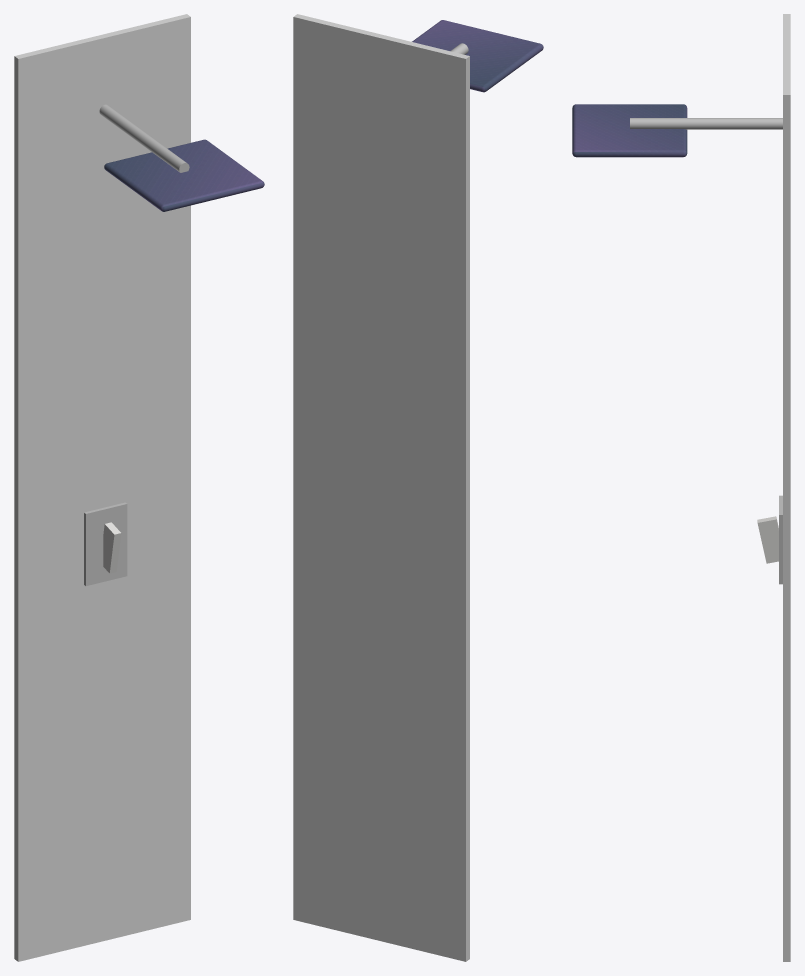
File: state-default.glb
3 views of the same model, side by side, from view 1: azimuth 30°, elevation 25°; view 2: azimuth 150°, elevation 25°; view 3: azimuth 270°, elevation 25° (orthographic). The views are drawn at different scales.
Parts seen in each view (by area): view 1: assetPrim:94e9a636240718-19c7407bbee:shower-wall-strip, assetPrim:94e9a636240718-19c7407bbee:shower-head-plate, assetPrim:94e9a636240718-19c7407bbee:shower-mixer-backplate, assetPrim:94e9a636240718-19c7407bbee:shower-arm-pipe, assetPrim:94e9a636240718-19c7407bbee:shower-mixer-lever; view 2: assetPrim:94e9a636240718-19c7407bbee:shower-wall-strip, assetPrim:94e9a636240718-19c7407bbee:shower-head-plate; view 3: assetPrim:94e9a636240718-19c7407bbee:shower-wall-strip, assetPrim:94e9a636240718-19c7407bbee:shower-head-plate, assetPrim:94e9a636240718-19c7407bbee:shower-arm-pipe, assetPrim:94e9a636240718-19c7407bbee:shower-mixer-lever.
Boxes of the visible parts, box(x1,y1,x2,y2) form: assetPrim:94e9a636240718-19c7407bbee:shower-wall-strip: box(14, 14, 190, 961); assetPrim:94e9a636240718-19c7407bbee:shower-head-plate: box(104, 139, 264, 211); assetPrim:94e9a636240718-19c7407bbee:shower-mixer-backplate: box(84, 502, 127, 585); assetPrim:94e9a636240718-19c7407bbee:shower-arm-pipe: box(99, 104, 189, 172); assetPrim:94e9a636240718-19c7407bbee:shower-mixer-lever: box(103, 522, 121, 573); assetPrim:94e9a636240718-19c7407bbee:shower-wall-strip: box(293, 14, 469, 961); assetPrim:94e9a636240718-19c7407bbee:shower-head-plate: box(412, 20, 543, 92); assetPrim:94e9a636240718-19c7407bbee:shower-wall-strip: box(783, 14, 790, 961); assetPrim:94e9a636240718-19c7407bbee:shower-head-plate: box(572, 104, 687, 157); assetPrim:94e9a636240718-19c7407bbee:shower-arm-pipe: box(630, 118, 782, 129); assetPrim:94e9a636240718-19c7407bbee:shower-mixer-lever: box(757, 516, 778, 563).
Size of the model in its own units: 0.5 by 2.5 by 0.57.
5 materials, 1 textured.
